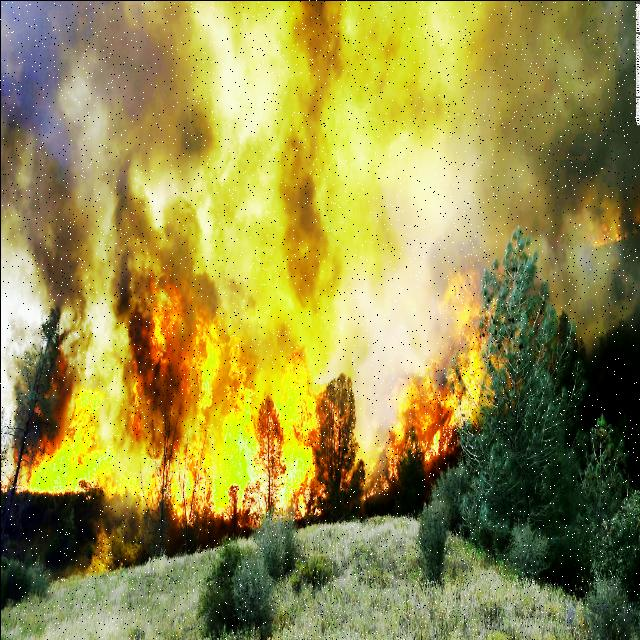api: (220, 345, 258, 511), (276, 357, 315, 511), (388, 376, 442, 472), (98, 445, 168, 511), (190, 316, 220, 438), (71, 386, 101, 500), (448, 339, 480, 439), (435, 271, 485, 333), (151, 288, 181, 358), (28, 449, 72, 495)
asap: (10, 1, 640, 324), (4, 306, 88, 445), (125, 324, 219, 446), (317, 294, 434, 376)
